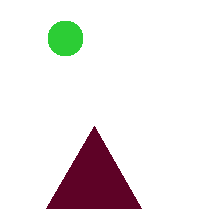circle: (48, 21, 82, 55)
triangle: (46, 126, 141, 208)
